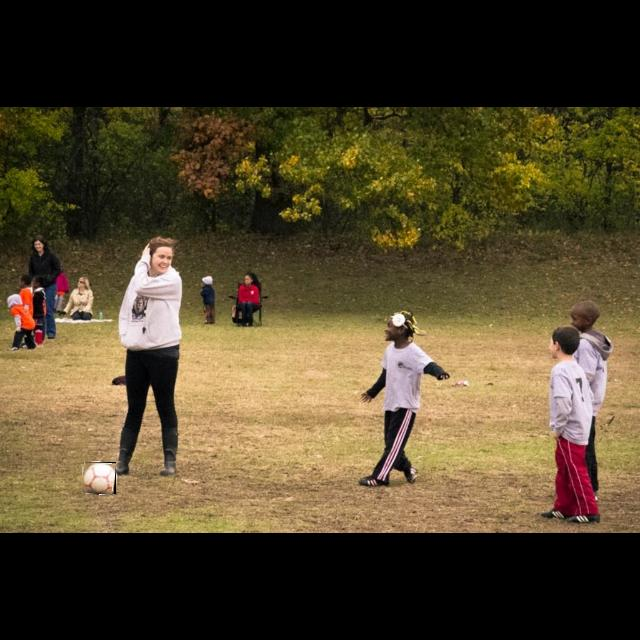Football: (82, 462, 116, 494)
